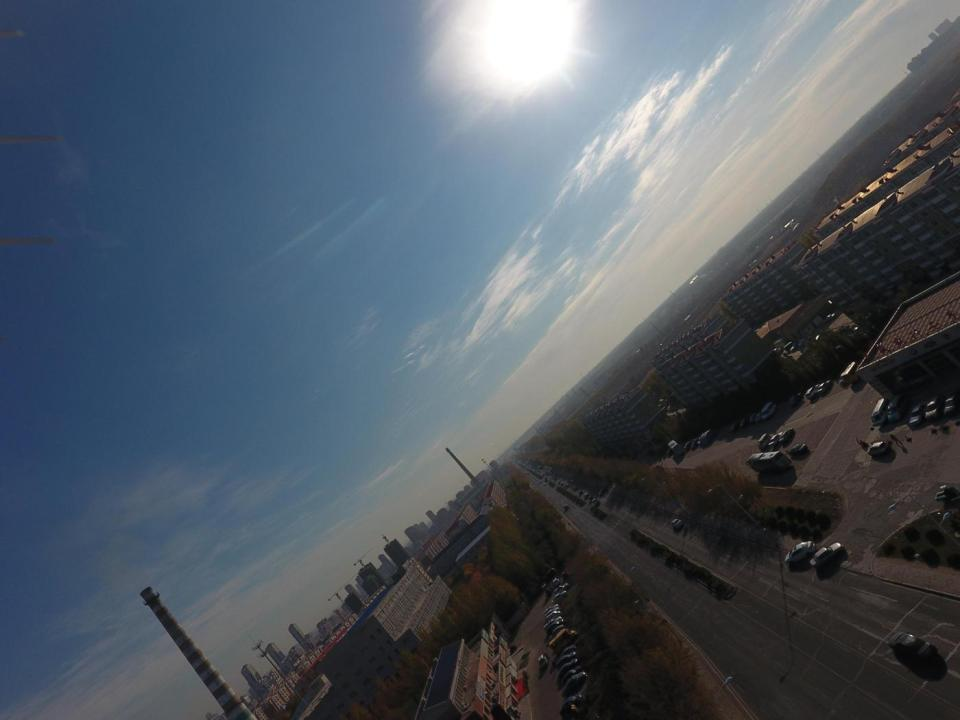bus: (748, 451, 792, 472), (548, 629, 578, 655), (843, 360, 865, 385), (668, 440, 684, 456), (553, 477, 557, 480)
car: (886, 628, 936, 667), (810, 542, 844, 568), (785, 541, 816, 566), (563, 671, 588, 694), (925, 394, 946, 421), (559, 693, 583, 716), (557, 659, 578, 684), (909, 400, 928, 426), (561, 666, 582, 686), (944, 391, 960, 416), (554, 645, 576, 663), (555, 651, 576, 668), (548, 624, 566, 640), (700, 428, 717, 444), (546, 619, 564, 634), (543, 617, 562, 631), (868, 442, 888, 455), (779, 428, 795, 443), (816, 380, 832, 395), (805, 384, 821, 398), (769, 431, 783, 446), (788, 444, 807, 455), (552, 591, 568, 604), (543, 604, 559, 617), (788, 393, 802, 407), (554, 582, 569, 595), (543, 568, 557, 581), (546, 611, 562, 622), (545, 607, 560, 618), (537, 654, 548, 669), (684, 438, 696, 450), (840, 372, 851, 385), (823, 312, 836, 323), (790, 341, 801, 352), (671, 518, 683, 528), (730, 422, 741, 432), (739, 418, 750, 428), (691, 438, 700, 450), (599, 486, 608, 497), (698, 436, 706, 447), (666, 447, 675, 456), (750, 413, 757, 424), (799, 338, 808, 346), (552, 578, 561, 586), (561, 572, 568, 580), (668, 405, 674, 411), (588, 495, 593, 501), (579, 490, 583, 495), (584, 493, 588, 498), (570, 479, 574, 483), (573, 486, 577, 490), (565, 483, 570, 486), (543, 482, 546, 486), (558, 481, 562, 484), (560, 482, 564, 485), (539, 480, 541, 483), (542, 474, 545, 476), (550, 472, 553, 474), (554, 473, 556, 476), (545, 470, 547, 472)
truck: (541, 584, 551, 596), (592, 498, 599, 505), (563, 504, 569, 510)
van: (886, 394, 910, 420), (872, 397, 892, 427), (761, 402, 778, 421), (757, 434, 772, 450), (754, 411, 764, 422), (785, 340, 794, 351), (769, 348, 781, 356), (660, 406, 666, 412)
